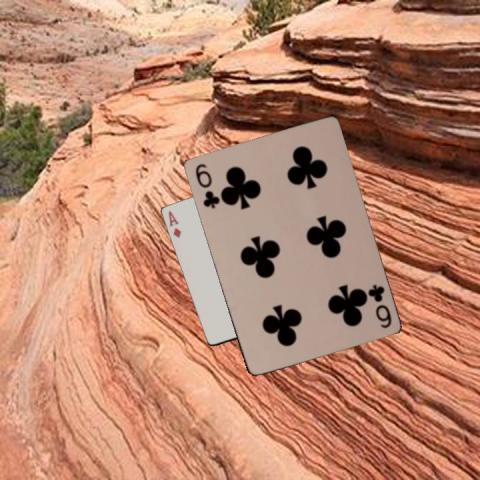6c: (192, 160, 220, 210), (364, 282, 393, 330)
Ad: (165, 208, 183, 239)
